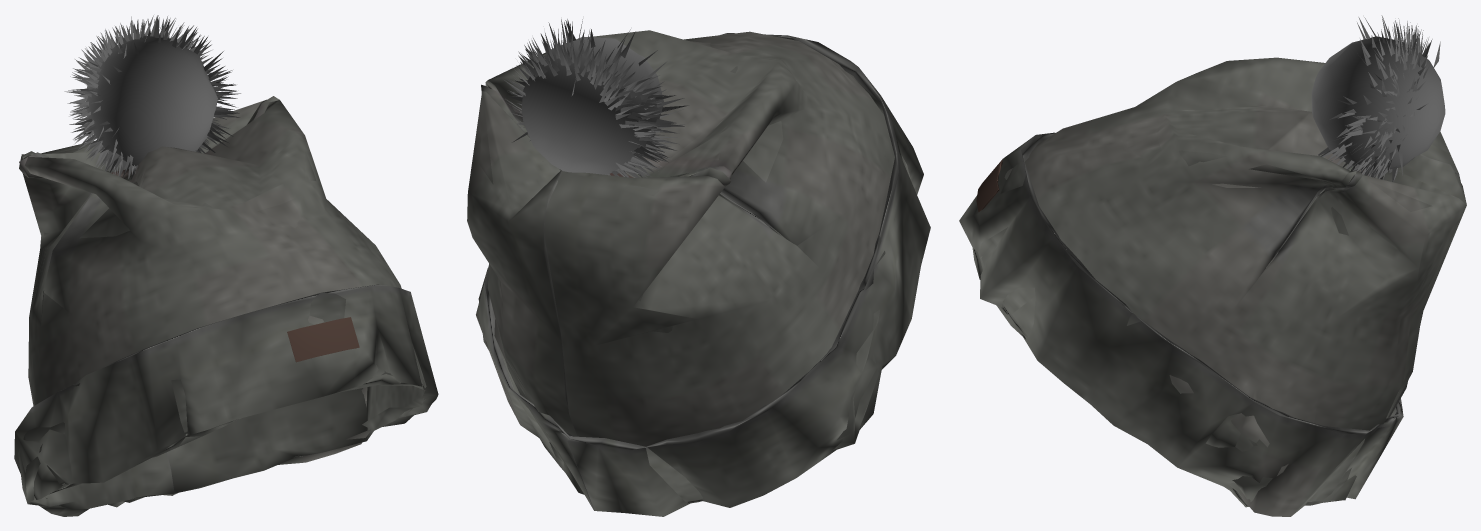
The model's file is bobblehat.glb.
3 views of the same model, side by side, from view 1: azimuth 30°, elevation 25°; view 2: azimuth 150°, elevation 25°; view 3: azimuth 270°, elevation 25° (orthographic). The views are drawn at different scales.
Parts seen in each view (by area): view 1: Object_2, Object_4, Object_5, Object_6, Object_3; view 2: Object_2, Object_4, Object_5, Object_6; view 3: Object_2, Object_4, Object_5, Object_6, Object_3.
Boxes of the visible parts, box(x1,y1,x2,y2) form: Object_2: box(18, 96, 426, 509); Object_4: box(14, 284, 438, 516); Object_5: box(64, 15, 230, 178); Object_6: box(82, 17, 240, 179); Object_3: box(287, 317, 359, 362); Object_2: box(467, 30, 894, 503); Object_4: box(476, 33, 930, 516); Object_5: box(504, 30, 676, 177); Object_6: box(531, 19, 688, 167); Object_2: box(972, 57, 1466, 507); Object_4: box(959, 132, 1403, 516); Object_5: box(1311, 18, 1445, 181); Object_6: box(1318, 15, 1400, 171); Object_3: box(976, 160, 1002, 211).
Size of the model in its own units: 193 by 242 by 236.
4 materials, 3 textured.
